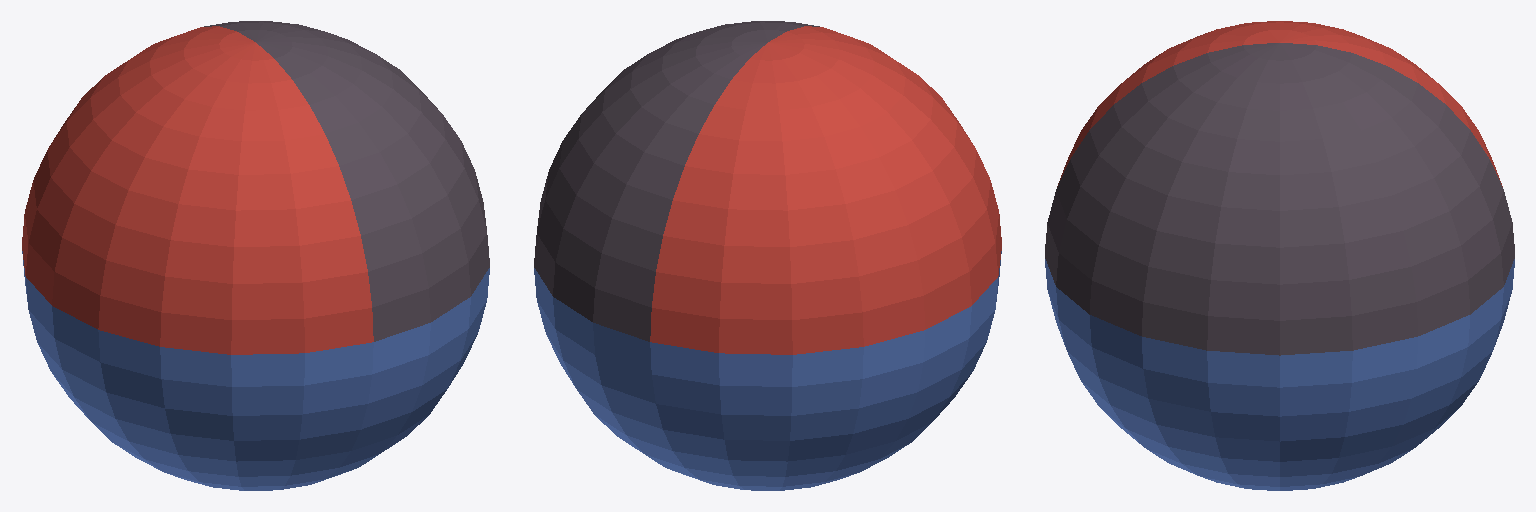
The model's file is Submeshes.obj.
3 renders of one model, left to right at view 1: azimuth 30°, elevation 25°; view 2: azimuth 150°, elevation 25°; view 3: azimuth 270°, elevation 25°, orthographic.
Size of the model in its own units: 2 by 2 by 2.